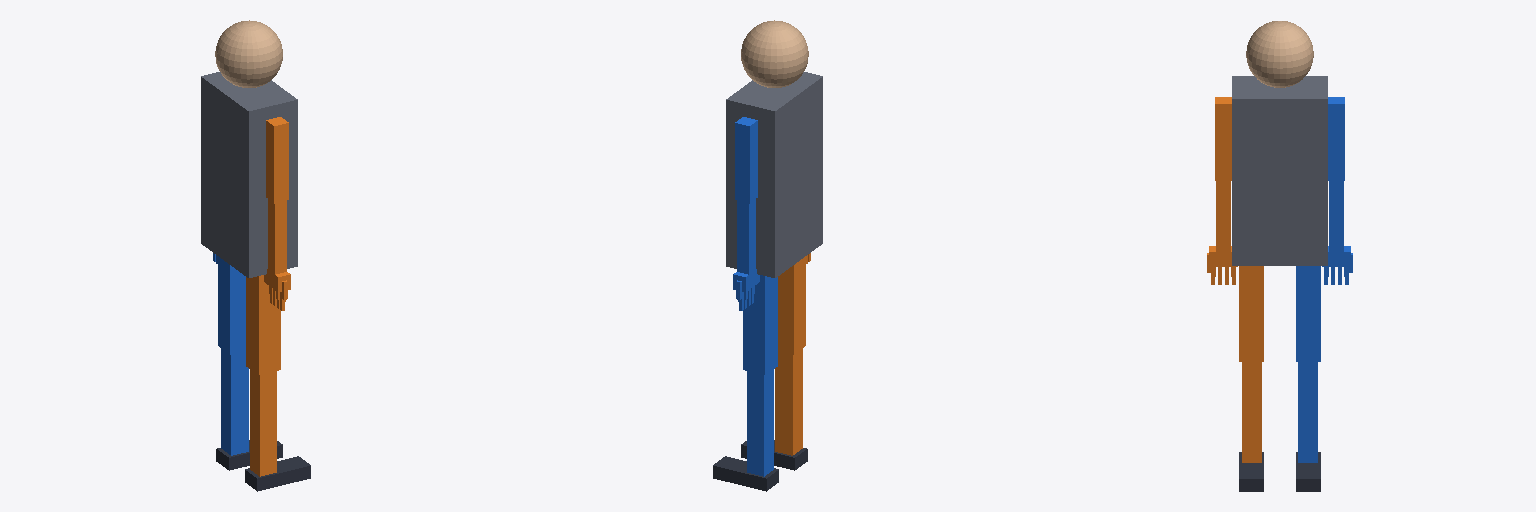
The robot description file, URDF, robot "humanoid_full":
<?xml version="1.0"?>
<!-- humanoid_full.urdf  (generated) — torso, neck+head, arms with 5-finger
     hands, legs with feet. All joints hinge about Y (forward/back). -->
<robot name="humanoid_full">
  <material name="gray"><color rgba="0.45 0.47 0.52 1"/></material>
  <material name="blue"><color rgba="0.2 0.5 0.9 1"/></material>
  <material name="orange"><color rgba="0.95 0.55 0.2 1"/></material>
  <material name="tan"><color rgba="0.85 0.72 0.6 1"/></material>
  <material name="dark"><color rgba="0.25 0.27 0.32 1"/></material>
  <link name="torso">
    <visual><geometry><box size="0.20 0.34 0.65"/></geometry><origin xyz="0 0 0.325"/><material name="gray"/></visual>
    <collision><geometry><box size="0.20 0.34 0.65"/></geometry><origin xyz="0 0 0.325"/></collision>
    <inertial><mass value="8.0"/><inertia ixx="0.1" iyy="0.1" izz="0.05" ixy="0" ixz="0" iyz="0"/></inertial>
  </link>
  <joint name="neck" type="revolute">
    <parent link="torso"/><child link="head"/>
    <origin xyz="0 0 0.66"/><axis xyz="0 1 0"/>
    <limit lower="-0.6" upper="0.6" effort="30" velocity="6"/>
  </joint>
  <link name="head">
    <visual><geometry><sphere radius="0.12"/></geometry><origin xyz="0 0 0.12"/><material name="tan"/></visual>
    <collision><geometry><sphere radius="0.12"/></geometry><origin xyz="0 0 0.12"/></collision>
    <inertial><mass value="1.0"/><origin xyz="0 0 0.12"/><inertia ixx="0.005" iyy="0.005" izz="0.005" ixy="0" ixz="0" iyz="0"/></inertial>
  </link>
  <joint name="L_shoulder" type="revolute">
    <parent link="torso"/><child link="L_uparm"/>
    <origin xyz="0 0.2 0.6"/><axis xyz="0 1 0"/>
    <limit lower="-1.5" upper="1.5" effort="30" velocity="6"/>
  </joint>
  <link name="L_uparm">
    <visual><geometry><box size="0.06 0.06 0.3"/></geometry><origin xyz="0 0 -0.15"/><material name="blue"/></visual>
    <collision><geometry><box size="0.06 0.06 0.3"/></geometry><origin xyz="0 0 -0.15"/></collision>
    <inertial><mass value="0.8"/><origin xyz="0 0 -0.15"/><inertia ixx="0.006" iyy="0.006" izz="0.006" ixy="0" ixz="0" iyz="0"/></inertial>
  </link>
  <joint name="L_elbow" type="revolute">
    <parent link="L_uparm"/><child link="L_forearm"/>
    <origin xyz="0 0 -0.3"/><axis xyz="0 -1 0"/>
    <limit lower="0.0" upper="2.5" effort="30" velocity="6"/>
  </joint>
  <link name="L_forearm">
    <visual><geometry><box size="0.05 0.05 0.28"/></geometry><origin xyz="0 0 -0.14"/><material name="blue"/></visual>
    <collision><geometry><box size="0.05 0.05 0.28"/></geometry><origin xyz="0 0 -0.14"/></collision>
    <inertial><mass value="0.6"/><origin xyz="0 0 -0.14"/><inertia ixx="0.004" iyy="0.004" izz="0.004" ixy="0" ixz="0" iyz="0"/></inertial>
  </link>
  <joint name="L_wrist" type="revolute">
    <parent link="L_forearm"/><child link="L_palm"/>
    <origin xyz="0 0 -0.28"/><axis xyz="0 1 0"/>
    <limit lower="-0.8" upper="0.8" effort="30" velocity="6"/>
  </joint>
  <link name="L_palm">
    <visual><geometry><box size="0.05 0.1 0.06"/></geometry><origin xyz="0 0 -0.03"/><material name="blue"/></visual>
    <collision><geometry><box size="0.05 0.1 0.06"/></geometry><origin xyz="0 0 -0.03"/></collision>
    <inertial><mass value="0.25"/><origin xyz="0 0 -0.03"/><inertia ixx="0.0004" iyy="0.0004" izz="0.0004" ixy="0" ixz="0" iyz="0"/></inertial>
  </link>
  <joint name="L_index_mcp" type="revolute">
    <parent link="L_palm"/><child link="L_index_prox"/>
    <origin xyz="0 0.036 -0.06"/><axis xyz="0 1 0"/>
    <limit lower="0.0" upper="1.6" effort="30" velocity="6"/>
  </joint>
  <link name="L_index_prox">
    <visual><geometry><box size="0.016 0.016 0.045"/></geometry><origin xyz="0 0 -0.0225"/><material name="blue"/></visual>
    <collision><geometry><box size="0.016 0.016 0.045"/></geometry><origin xyz="0 0 -0.0225"/></collision>
    <inertial><mass value="0.02"/><origin xyz="0 0 -0.0225"/><inertia ixx="1e-05" iyy="1e-05" izz="1e-05" ixy="0" ixz="0" iyz="0"/></inertial>
  </link>
  <joint name="L_index_pip" type="revolute">
    <parent link="L_index_prox"/><child link="L_index_dist"/>
    <origin xyz="0 0 -0.045"/><axis xyz="0 1 0"/>
    <limit lower="0.0" upper="1.6" effort="30" velocity="6"/>
  </joint>
  <link name="L_index_dist">
    <visual><geometry><box size="0.014 0.014 0.035"/></geometry><origin xyz="0 0 -0.0175"/><material name="blue"/></visual>
    <collision><geometry><box size="0.014 0.014 0.035"/></geometry><origin xyz="0 0 -0.0175"/></collision>
    <inertial><mass value="0.015"/><origin xyz="0 0 -0.0175"/><inertia ixx="1e-05" iyy="1e-05" izz="1e-05" ixy="0" ixz="0" iyz="0"/></inertial>
  </link>
  <joint name="L_middle_mcp" type="revolute">
    <parent link="L_palm"/><child link="L_middle_prox"/>
    <origin xyz="0 0.012 -0.06"/><axis xyz="0 1 0"/>
    <limit lower="0.0" upper="1.6" effort="30" velocity="6"/>
  </joint>
  <link name="L_middle_prox">
    <visual><geometry><box size="0.016 0.016 0.045"/></geometry><origin xyz="0 0 -0.0225"/><material name="blue"/></visual>
    <collision><geometry><box size="0.016 0.016 0.045"/></geometry><origin xyz="0 0 -0.0225"/></collision>
    <inertial><mass value="0.02"/><origin xyz="0 0 -0.0225"/><inertia ixx="1e-05" iyy="1e-05" izz="1e-05" ixy="0" ixz="0" iyz="0"/></inertial>
  </link>
  <joint name="L_middle_pip" type="revolute">
    <parent link="L_middle_prox"/><child link="L_middle_dist"/>
    <origin xyz="0 0 -0.045"/><axis xyz="0 1 0"/>
    <limit lower="0.0" upper="1.6" effort="30" velocity="6"/>
  </joint>
  <link name="L_middle_dist">
    <visual><geometry><box size="0.014 0.014 0.035"/></geometry><origin xyz="0 0 -0.0175"/><material name="blue"/></visual>
    <collision><geometry><box size="0.014 0.014 0.035"/></geometry><origin xyz="0 0 -0.0175"/></collision>
    <inertial><mass value="0.015"/><origin xyz="0 0 -0.0175"/><inertia ixx="1e-05" iyy="1e-05" izz="1e-05" ixy="0" ixz="0" iyz="0"/></inertial>
  </link>
  <joint name="L_ring_mcp" type="revolute">
    <parent link="L_palm"/><child link="L_ring_prox"/>
    <origin xyz="0 -0.012 -0.06"/><axis xyz="0 1 0"/>
    <limit lower="0.0" upper="1.6" effort="30" velocity="6"/>
  </joint>
  <link name="L_ring_prox">
    <visual><geometry><box size="0.016 0.016 0.045"/></geometry><origin xyz="0 0 -0.0225"/><material name="blue"/></visual>
    <collision><geometry><box size="0.016 0.016 0.045"/></geometry><origin xyz="0 0 -0.0225"/></collision>
    <inertial><mass value="0.02"/><origin xyz="0 0 -0.0225"/><inertia ixx="1e-05" iyy="1e-05" izz="1e-05" ixy="0" ixz="0" iyz="0"/></inertial>
  </link>
  <joint name="L_ring_pip" type="revolute">
    <parent link="L_ring_prox"/><child link="L_ring_dist"/>
    <origin xyz="0 0 -0.045"/><axis xyz="0 1 0"/>
    <limit lower="0.0" upper="1.6" effort="30" velocity="6"/>
  </joint>
  <link name="L_ring_dist">
    <visual><geometry><box size="0.014 0.014 0.035"/></geometry><origin xyz="0 0 -0.0175"/><material name="blue"/></visual>
    <collision><geometry><box size="0.014 0.014 0.035"/></geometry><origin xyz="0 0 -0.0175"/></collision>
    <inertial><mass value="0.015"/><origin xyz="0 0 -0.0175"/><inertia ixx="1e-05" iyy="1e-05" izz="1e-05" ixy="0" ixz="0" iyz="0"/></inertial>
  </link>
  <joint name="L_pinky_mcp" type="revolute">
    <parent link="L_palm"/><child link="L_pinky_prox"/>
    <origin xyz="0 -0.036 -0.06"/><axis xyz="0 1 0"/>
    <limit lower="0.0" upper="1.6" effort="30" velocity="6"/>
  </joint>
  <link name="L_pinky_prox">
    <visual><geometry><box size="0.016 0.016 0.045"/></geometry><origin xyz="0 0 -0.0225"/><material name="blue"/></visual>
    <collision><geometry><box size="0.016 0.016 0.045"/></geometry><origin xyz="0 0 -0.0225"/></collision>
    <inertial><mass value="0.02"/><origin xyz="0 0 -0.0225"/><inertia ixx="1e-05" iyy="1e-05" izz="1e-05" ixy="0" ixz="0" iyz="0"/></inertial>
  </link>
  <joint name="L_pinky_pip" type="revolute">
    <parent link="L_pinky_prox"/><child link="L_pinky_dist"/>
    <origin xyz="0 0 -0.045"/><axis xyz="0 1 0"/>
    <limit lower="0.0" upper="1.6" effort="30" velocity="6"/>
  </joint>
  <link name="L_pinky_dist">
    <visual><geometry><box size="0.014 0.014 0.035"/></geometry><origin xyz="0 0 -0.0175"/><material name="blue"/></visual>
    <collision><geometry><box size="0.014 0.014 0.035"/></geometry><origin xyz="0 0 -0.0175"/></collision>
    <inertial><mass value="0.015"/><origin xyz="0 0 -0.0175"/><inertia ixx="1e-05" iyy="1e-05" izz="1e-05" ixy="0" ixz="0" iyz="0"/></inertial>
  </link>
  <joint name="L_thumb_mcp" type="revolute">
    <parent link="L_palm"/><child link="L_thumb_prox"/>
    <origin xyz="0 0.05 -0.02"/><axis xyz="1 0 0"/>
    <limit lower="-1.2" upper="1.2" effort="30" velocity="6"/>
  </joint>
  <link name="L_thumb_prox">
    <visual><geometry><box size="0.018 0.018 0.04"/></geometry><origin xyz="0 0 -0.02"/><material name="blue"/></visual>
    <collision><geometry><box size="0.018 0.018 0.04"/></geometry><origin xyz="0 0 -0.02"/></collision>
    <inertial><mass value="0.02"/><origin xyz="0 0 -0.02"/><inertia ixx="1e-05" iyy="1e-05" izz="1e-05" ixy="0" ixz="0" iyz="0"/></inertial>
  </link>
  <joint name="L_thumb_ip" type="revolute">
    <parent link="L_thumb_prox"/><child link="L_thumb_dist"/>
    <origin xyz="0 0 -0.04"/><axis xyz="0 1 0"/>
    <limit lower="0.0" upper="1.4" effort="30" velocity="6"/>
  </joint>
  <link name="L_thumb_dist">
    <visual><geometry><box size="0.016 0.016 0.03"/></geometry><origin xyz="0 0 -0.015"/><material name="blue"/></visual>
    <collision><geometry><box size="0.016 0.016 0.03"/></geometry><origin xyz="0 0 -0.015"/></collision>
    <inertial><mass value="0.015"/><origin xyz="0 0 -0.015"/><inertia ixx="1e-05" iyy="1e-05" izz="1e-05" ixy="0" ixz="0" iyz="0"/></inertial>
  </link>
  <joint name="R_shoulder" type="revolute">
    <parent link="torso"/><child link="R_uparm"/>
    <origin xyz="0 -0.2 0.6"/><axis xyz="0 1 0"/>
    <limit lower="-1.5" upper="1.5" effort="30" velocity="6"/>
  </joint>
  <link name="R_uparm">
    <visual><geometry><box size="0.06 0.06 0.3"/></geometry><origin xyz="0 0 -0.15"/><material name="orange"/></visual>
    <collision><geometry><box size="0.06 0.06 0.3"/></geometry><origin xyz="0 0 -0.15"/></collision>
    <inertial><mass value="0.8"/><origin xyz="0 0 -0.15"/><inertia ixx="0.006" iyy="0.006" izz="0.006" ixy="0" ixz="0" iyz="0"/></inertial>
  </link>
  <joint name="R_elbow" type="revolute">
    <parent link="R_uparm"/><child link="R_forearm"/>
    <origin xyz="0 0 -0.3"/><axis xyz="0 -1 0"/>
    <limit lower="0.0" upper="2.5" effort="30" velocity="6"/>
  </joint>
  <link name="R_forearm">
    <visual><geometry><box size="0.05 0.05 0.28"/></geometry><origin xyz="0 0 -0.14"/><material name="orange"/></visual>
    <collision><geometry><box size="0.05 0.05 0.28"/></geometry><origin xyz="0 0 -0.14"/></collision>
    <inertial><mass value="0.6"/><origin xyz="0 0 -0.14"/><inertia ixx="0.004" iyy="0.004" izz="0.004" ixy="0" ixz="0" iyz="0"/></inertial>
  </link>
  <joint name="R_wrist" type="revolute">
    <parent link="R_forearm"/><child link="R_palm"/>
    <origin xyz="0 0 -0.28"/><axis xyz="0 1 0"/>
    <limit lower="-0.8" upper="0.8" effort="30" velocity="6"/>
  </joint>
  <link name="R_palm">
    <visual><geometry><box size="0.05 0.1 0.06"/></geometry><origin xyz="0 0 -0.03"/><material name="orange"/></visual>
    <collision><geometry><box size="0.05 0.1 0.06"/></geometry><origin xyz="0 0 -0.03"/></collision>
    <inertial><mass value="0.25"/><origin xyz="0 0 -0.03"/><inertia ixx="0.0004" iyy="0.0004" izz="0.0004" ixy="0" ixz="0" iyz="0"/></inertial>
  </link>
  <joint name="R_index_mcp" type="revolute">
    <parent link="R_palm"/><child link="R_index_prox"/>
    <origin xyz="0 0.036 -0.06"/><axis xyz="0 1 0"/>
    <limit lower="0.0" upper="1.6" effort="30" velocity="6"/>
  </joint>
  <link name="R_index_prox">
    <visual><geometry><box size="0.016 0.016 0.045"/></geometry><origin xyz="0 0 -0.0225"/><material name="orange"/></visual>
    <collision><geometry><box size="0.016 0.016 0.045"/></geometry><origin xyz="0 0 -0.0225"/></collision>
    <inertial><mass value="0.02"/><origin xyz="0 0 -0.0225"/><inertia ixx="1e-05" iyy="1e-05" izz="1e-05" ixy="0" ixz="0" iyz="0"/></inertial>
  </link>
  <joint name="R_index_pip" type="revolute">
    <parent link="R_index_prox"/><child link="R_index_dist"/>
    <origin xyz="0 0 -0.045"/><axis xyz="0 1 0"/>
    <limit lower="0.0" upper="1.6" effort="30" velocity="6"/>
  </joint>
  <link name="R_index_dist">
    <visual><geometry><box size="0.014 0.014 0.035"/></geometry><origin xyz="0 0 -0.0175"/><material name="orange"/></visual>
    <collision><geometry><box size="0.014 0.014 0.035"/></geometry><origin xyz="0 0 -0.0175"/></collision>
    <inertial><mass value="0.015"/><origin xyz="0 0 -0.0175"/><inertia ixx="1e-05" iyy="1e-05" izz="1e-05" ixy="0" ixz="0" iyz="0"/></inertial>
  </link>
  <joint name="R_middle_mcp" type="revolute">
    <parent link="R_palm"/><child link="R_middle_prox"/>
    <origin xyz="0 0.012 -0.06"/><axis xyz="0 1 0"/>
    <limit lower="0.0" upper="1.6" effort="30" velocity="6"/>
  </joint>
  <link name="R_middle_prox">
    <visual><geometry><box size="0.016 0.016 0.045"/></geometry><origin xyz="0 0 -0.0225"/><material name="orange"/></visual>
    <collision><geometry><box size="0.016 0.016 0.045"/></geometry><origin xyz="0 0 -0.0225"/></collision>
    <inertial><mass value="0.02"/><origin xyz="0 0 -0.0225"/><inertia ixx="1e-05" iyy="1e-05" izz="1e-05" ixy="0" ixz="0" iyz="0"/></inertial>
  </link>
  <joint name="R_middle_pip" type="revolute">
    <parent link="R_middle_prox"/><child link="R_middle_dist"/>
    <origin xyz="0 0 -0.045"/><axis xyz="0 1 0"/>
    <limit lower="0.0" upper="1.6" effort="30" velocity="6"/>
  </joint>
  <link name="R_middle_dist">
    <visual><geometry><box size="0.014 0.014 0.035"/></geometry><origin xyz="0 0 -0.0175"/><material name="orange"/></visual>
    <collision><geometry><box size="0.014 0.014 0.035"/></geometry><origin xyz="0 0 -0.0175"/></collision>
    <inertial><mass value="0.015"/><origin xyz="0 0 -0.0175"/><inertia ixx="1e-05" iyy="1e-05" izz="1e-05" ixy="0" ixz="0" iyz="0"/></inertial>
  </link>
  <joint name="R_ring_mcp" type="revolute">
    <parent link="R_palm"/><child link="R_ring_prox"/>
    <origin xyz="0 -0.012 -0.06"/><axis xyz="0 1 0"/>
    <limit lower="0.0" upper="1.6" effort="30" velocity="6"/>
  </joint>
  <link name="R_ring_prox">
    <visual><geometry><box size="0.016 0.016 0.045"/></geometry><origin xyz="0 0 -0.0225"/><material name="orange"/></visual>
    <collision><geometry><box size="0.016 0.016 0.045"/></geometry><origin xyz="0 0 -0.0225"/></collision>
    <inertial><mass value="0.02"/><origin xyz="0 0 -0.0225"/><inertia ixx="1e-05" iyy="1e-05" izz="1e-05" ixy="0" ixz="0" iyz="0"/></inertial>
  </link>
  <joint name="R_ring_pip" type="revolute">
    <parent link="R_ring_prox"/><child link="R_ring_dist"/>
    <origin xyz="0 0 -0.045"/><axis xyz="0 1 0"/>
    <limit lower="0.0" upper="1.6" effort="30" velocity="6"/>
  </joint>
  <link name="R_ring_dist">
    <visual><geometry><box size="0.014 0.014 0.035"/></geometry><origin xyz="0 0 -0.0175"/><material name="orange"/></visual>
    <collision><geometry><box size="0.014 0.014 0.035"/></geometry><origin xyz="0 0 -0.0175"/></collision>
    <inertial><mass value="0.015"/><origin xyz="0 0 -0.0175"/><inertia ixx="1e-05" iyy="1e-05" izz="1e-05" ixy="0" ixz="0" iyz="0"/></inertial>
  </link>
  <joint name="R_pinky_mcp" type="revolute">
    <parent link="R_palm"/><child link="R_pinky_prox"/>
    <origin xyz="0 -0.036 -0.06"/><axis xyz="0 1 0"/>
    <limit lower="0.0" upper="1.6" effort="30" velocity="6"/>
  </joint>
  <link name="R_pinky_prox">
    <visual><geometry><box size="0.016 0.016 0.045"/></geometry><origin xyz="0 0 -0.0225"/><material name="orange"/></visual>
    <collision><geometry><box size="0.016 0.016 0.045"/></geometry><origin xyz="0 0 -0.0225"/></collision>
    <inertial><mass value="0.02"/><origin xyz="0 0 -0.0225"/><inertia ixx="1e-05" iyy="1e-05" izz="1e-05" ixy="0" ixz="0" iyz="0"/></inertial>
  </link>
  <joint name="R_pinky_pip" type="revolute">
    <parent link="R_pinky_prox"/><child link="R_pinky_dist"/>
    <origin xyz="0 0 -0.045"/><axis xyz="0 1 0"/>
    <limit lower="0.0" upper="1.6" effort="30" velocity="6"/>
  </joint>
  <link name="R_pinky_dist">
    <visual><geometry><box size="0.014 0.014 0.035"/></geometry><origin xyz="0 0 -0.0175"/><material name="orange"/></visual>
    <collision><geometry><box size="0.014 0.014 0.035"/></geometry><origin xyz="0 0 -0.0175"/></collision>
    <inertial><mass value="0.015"/><origin xyz="0 0 -0.0175"/><inertia ixx="1e-05" iyy="1e-05" izz="1e-05" ixy="0" ixz="0" iyz="0"/></inertial>
  </link>
  <joint name="R_thumb_mcp" type="revolute">
    <parent link="R_palm"/><child link="R_thumb_prox"/>
    <origin xyz="0 -0.05 -0.02"/><axis xyz="1 0 0"/>
    <limit lower="-1.2" upper="1.2" effort="30" velocity="6"/>
  </joint>
  <link name="R_thumb_prox">
    <visual><geometry><box size="0.018 0.018 0.04"/></geometry><origin xyz="0 0 -0.02"/><material name="orange"/></visual>
    <collision><geometry><box size="0.018 0.018 0.04"/></geometry><origin xyz="0 0 -0.02"/></collision>
    <inertial><mass value="0.02"/><origin xyz="0 0 -0.02"/><inertia ixx="1e-05" iyy="1e-05" izz="1e-05" ixy="0" ixz="0" iyz="0"/></inertial>
  </link>
  <joint name="R_thumb_ip" type="revolute">
    <parent link="R_thumb_prox"/><child link="R_thumb_dist"/>
    <origin xyz="0 0 -0.04"/><axis xyz="0 1 0"/>
    <limit lower="0.0" upper="1.4" effort="30" velocity="6"/>
  </joint>
  <link name="R_thumb_dist">
    <visual><geometry><box size="0.016 0.016 0.03"/></geometry><origin xyz="0 0 -0.015"/><material name="orange"/></visual>
    <collision><geometry><box size="0.016 0.016 0.03"/></geometry><origin xyz="0 0 -0.015"/></collision>
    <inertial><mass value="0.015"/><origin xyz="0 0 -0.015"/><inertia ixx="1e-05" iyy="1e-05" izz="1e-05" ixy="0" ixz="0" iyz="0"/></inertial>
  </link>
  <joint name="L_hip" type="revolute">
    <parent link="torso"/><child link="L_thigh"/>
    <origin xyz="0 0.1 0"/><axis xyz="0 1 0"/>
    <limit lower="-1.2" upper="1.2" effort="30" velocity="6"/>
  </joint>
  <link name="L_thigh">
    <visual><geometry><box size="0.09 0.09 0.4"/></geometry><origin xyz="0 0 -0.2"/><material name="blue"/></visual>
    <collision><geometry><box size="0.09 0.09 0.4"/></geometry><origin xyz="0 0 -0.2"/></collision>
    <inertial><mass value="1.5"/><origin xyz="0 0 -0.2"/><inertia ixx="0.02" iyy="0.02" izz="0.02" ixy="0" ixz="0" iyz="0"/></inertial>
  </link>
  <joint name="L_knee" type="revolute">
    <parent link="L_thigh"/><child link="L_shin"/>
    <origin xyz="0 0 -0.4"/><axis xyz="0 1 0"/>
    <limit lower="0.0" upper="2.4" effort="30" velocity="6"/>
  </joint>
  <link name="L_shin">
    <visual><geometry><box size="0.07 0.07 0.4"/></geometry><origin xyz="0 0 -0.2"/><material name="blue"/></visual>
    <collision><geometry><box size="0.07 0.07 0.4"/></geometry><origin xyz="0 0 -0.2"/></collision>
    <inertial><mass value="1.0"/><origin xyz="0 0 -0.2"/><inertia ixx="0.014" iyy="0.014" izz="0.014" ixy="0" ixz="0" iyz="0"/></inertial>
  </link>
  <joint name="L_ankle" type="revolute">
    <parent link="L_shin"/><child link="L_foot"/>
    <origin xyz="0 0 -0.4"/><axis xyz="0 1 0"/>
    <limit lower="-0.7" upper="0.7" effort="30" velocity="6"/>
  </joint>
  <link name="L_foot">
    <visual><geometry><box size="0.22 0.09 0.05"/></geometry><origin xyz="0.06 0 -0.025"/><material name="dark"/></visual>
    <collision><geometry><box size="0.22 0.09 0.05"/></geometry><origin xyz="0.06 0 -0.025"/></collision>
    <inertial><mass value="0.4"/><origin xyz="0.06 0 -0.025"/><inertia ixx="0.002" iyy="0.002" izz="0.002" ixy="0" ixz="0" iyz="0"/></inertial>
  </link>
  <joint name="R_hip" type="revolute">
    <parent link="torso"/><child link="R_thigh"/>
    <origin xyz="0 -0.1 0"/><axis xyz="0 1 0"/>
    <limit lower="-1.2" upper="1.2" effort="30" velocity="6"/>
  </joint>
  <link name="R_thigh">
    <visual><geometry><box size="0.09 0.09 0.4"/></geometry><origin xyz="0 0 -0.2"/><material name="orange"/></visual>
    <collision><geometry><box size="0.09 0.09 0.4"/></geometry><origin xyz="0 0 -0.2"/></collision>
    <inertial><mass value="1.5"/><origin xyz="0 0 -0.2"/><inertia ixx="0.02" iyy="0.02" izz="0.02" ixy="0" ixz="0" iyz="0"/></inertial>
  </link>
  <joint name="R_knee" type="revolute">
    <parent link="R_thigh"/><child link="R_shin"/>
    <origin xyz="0 0 -0.4"/><axis xyz="0 1 0"/>
    <limit lower="0.0" upper="2.4" effort="30" velocity="6"/>
  </joint>
  <link name="R_shin">
    <visual><geometry><box size="0.07 0.07 0.4"/></geometry><origin xyz="0 0 -0.2"/><material name="orange"/></visual>
    <collision><geometry><box size="0.07 0.07 0.4"/></geometry><origin xyz="0 0 -0.2"/></collision>
    <inertial><mass value="1.0"/><origin xyz="0 0 -0.2"/><inertia ixx="0.014" iyy="0.014" izz="0.014" ixy="0" ixz="0" iyz="0"/></inertial>
  </link>
  <joint name="R_ankle" type="revolute">
    <parent link="R_shin"/><child link="R_foot"/>
    <origin xyz="0 0 -0.4"/><axis xyz="0 1 0"/>
    <limit lower="-0.7" upper="0.7" effort="30" velocity="6"/>
  </joint>
  <link name="R_foot">
    <visual><geometry><box size="0.22 0.09 0.05"/></geometry><origin xyz="0.06 0 -0.025"/><material name="dark"/></visual>
    <collision><geometry><box size="0.22 0.09 0.05"/></geometry><origin xyz="0.06 0 -0.025"/></collision>
    <inertial><mass value="0.4"/><origin xyz="0.06 0 -0.025"/><inertia ixx="0.002" iyy="0.002" izz="0.002" ixy="0" ixz="0" iyz="0"/></inertial>
  </link>
</robot>

--- Facts derived from the render (not from the file) ---
The picture shows the robot from 3 angles, left to right: view 1: azimuth 30°, elevation 25°; view 2: azimuth 150°, elevation 25°; view 3: azimuth 270°, elevation 25°; orthographic projection.
Robot: humanoid_full — 34 links, 33 joints (33 revolute); root link torso; default pose: all joints at 0.
Visible links, largest first — view 1: torso, head, R_thigh, L_shin, R_shin, L_thigh, R_uparm, R_forearm, R_foot, L_foot; view 2: torso, head, L_thigh, R_shin, L_shin, R_thigh, L_uparm, L_forearm, L_foot, R_foot; view 3: torso, head, L_thigh, R_thigh, L_shin, R_shin, L_uparm, R_uparm, L_forearm, R_forearm, L_foot, R_foot.
Link boxes in pixels (x1,y1,x2,y2): torso: (201,72,297,277); head: (215,20,282,87); R_thigh: (246,275,280,374); L_shin: (221,348,248,455); R_shin: (250,370,276,476); L_thigh: (218,256,245,354); R_uparm: (266,117,288,203); R_forearm: (268,199,286,274); R_foot: (245,456,310,491); L_foot: (216,440,282,470); torso: (726,72,822,277); head: (741,20,808,87); L_thigh: (743,275,777,374); R_shin: (775,348,802,455); L_shin: (747,370,773,476); R_thigh: (778,256,805,354); L_uparm: (735,117,757,203); L_forearm: (737,199,755,274); L_foot: (713,456,778,491); R_foot: (741,440,807,470); torso: (1232,76,1327,265); head: (1246,21,1313,87); L_thigh: (1296,266,1320,361); R_thigh: (1239,266,1263,361); L_shin: (1298,362,1317,462); R_shin: (1242,362,1261,462); L_uparm: (1328,97,1344,180); R_uparm: (1215,97,1231,180); L_forearm: (1329,181,1343,251); R_forearm: (1216,181,1230,251); L_foot: (1296,452,1320,491); R_foot: (1239,452,1263,491).
Size in the robot's own frame: 0.29 by 0.518 by 1.75 metres.
Geometry: primitives only (box / cylinder / sphere), no mesh files.
